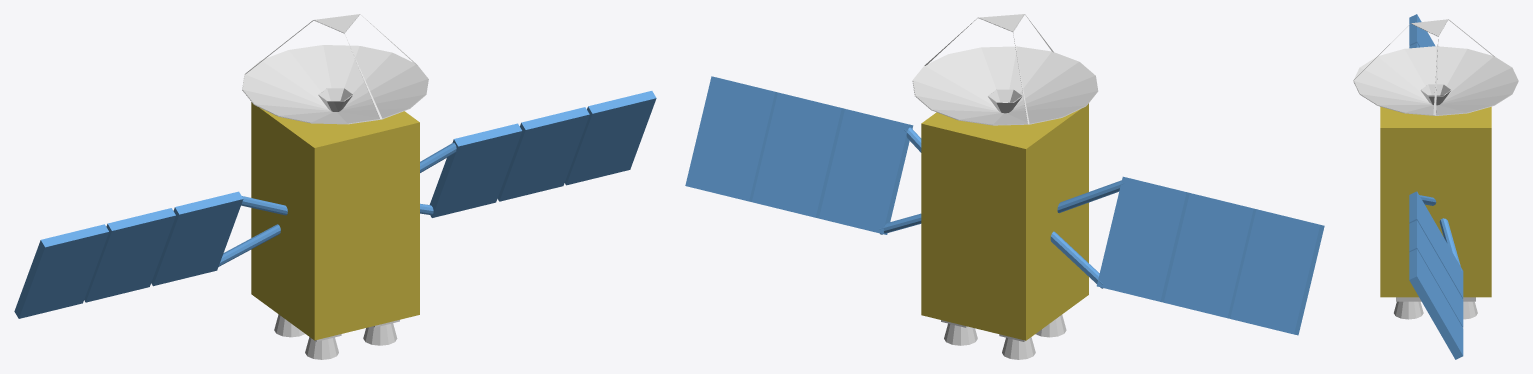
The model's file is Satellite.fbx.
3 renders of one model, left to right at view 1: azimuth 30°, elevation 25°; view 2: azimuth 150°, elevation 25°; view 3: azimuth 270°, elevation 25°, orthographic. The views are drawn at different scales.
Visible parts, largest first — view 1: 立方体, 立方体.002, 円錐, 立方体.001; view 2: 立方体.002, 立方体, 円錐, 立方体.001; view 3: 立方体, 円錐, 立方体.002, 立方体.001.
Part boxes in pixels (<box>): 立方体: <box>251,102,419,340</box>; 立方体.002: <box>14,91,656,318</box>; 円錐: <box>242,14,428,124</box>; 立方体.001: <box>274,314,399,359</box>; 立方体.002: <box>685,76,1324,335</box>; 立方体: <box>921,103,1088,340</box>; 円錐: <box>912,14,1098,125</box>; 立方体.001: <box>941,314,1066,359</box>; 立方体: <box>1380,106,1491,297</box>; 円錐: <box>1353,19,1518,115</box>; 立方体.002: <box>1409,14,1463,359</box>; 立方体.001: <box>1394,297,1477,319</box>.
Bounding box in the file's own units: 58.32 × 28.55 × 15.57.
